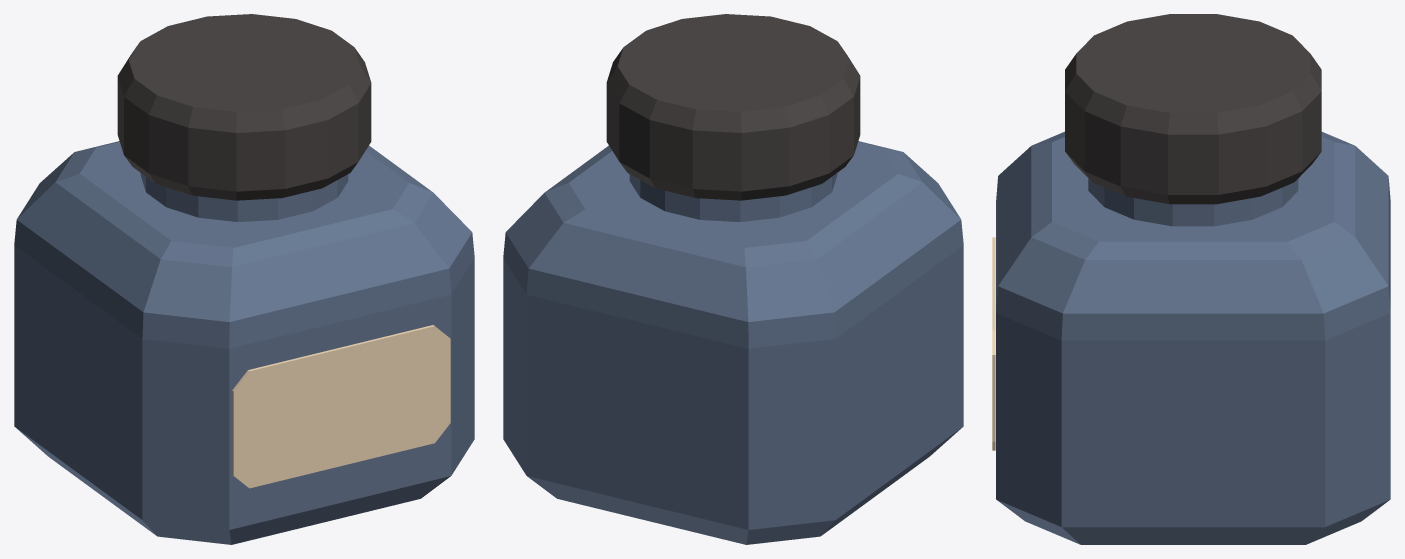
File: ink-bottle.glb
3 renders of one model, left to right at view 1: azimuth 30°, elevation 25°; view 2: azimuth 150°, elevation 25°; view 3: azimuth 270°, elevation 25°, orthographic. The views are drawn at different scales.
Visible parts, largest first — view 1: 01 瓶身 · 蓝灰玻璃与标签, 02 瓶盖 · 深灰色; view 2: 01 瓶身 · 蓝灰玻璃与标签, 02 瓶盖 · 深灰色; view 3: 01 瓶身 · 蓝灰玻璃与标签, 02 瓶盖 · 深灰色.
Part boxes in pixels (x1=…): 01 瓶身 · 蓝灰玻璃与标签: x1=14, y1=141, x2=474, y2=544; 02 瓶盖 · 深灰色: x1=117, y1=14, x2=371, y2=200; 01 瓶身 · 蓝灰玻璃与标签: x1=503, y1=141, x2=963, y2=544; 02 瓶盖 · 深灰色: x1=606, y1=14, x2=860, y2=200; 01 瓶身 · 蓝灰玻璃与标签: x1=992, y1=131, x2=1390, y2=544; 02 瓶盖 · 深灰色: x1=1065, y1=14, x2=1321, y2=204.
Bounding box in the file's own units: 1.9 × 2.18 × 1.92.
